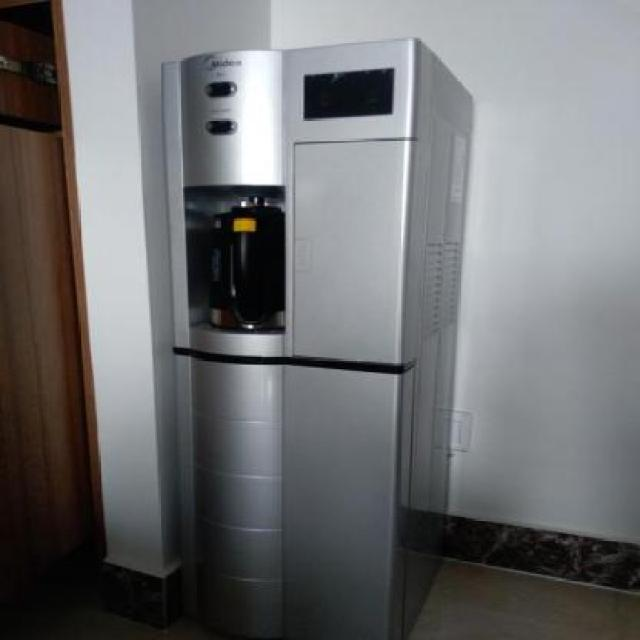cooler: (162, 35, 479, 640)
